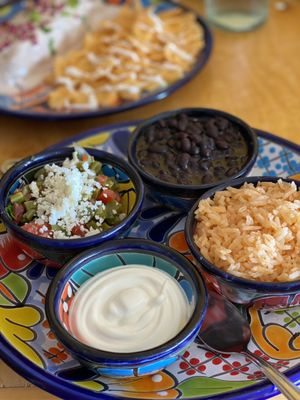pizza: (203, 0, 270, 32)
sushi: (44, 238, 208, 377), (0, 144, 145, 251), (126, 108, 258, 200)
